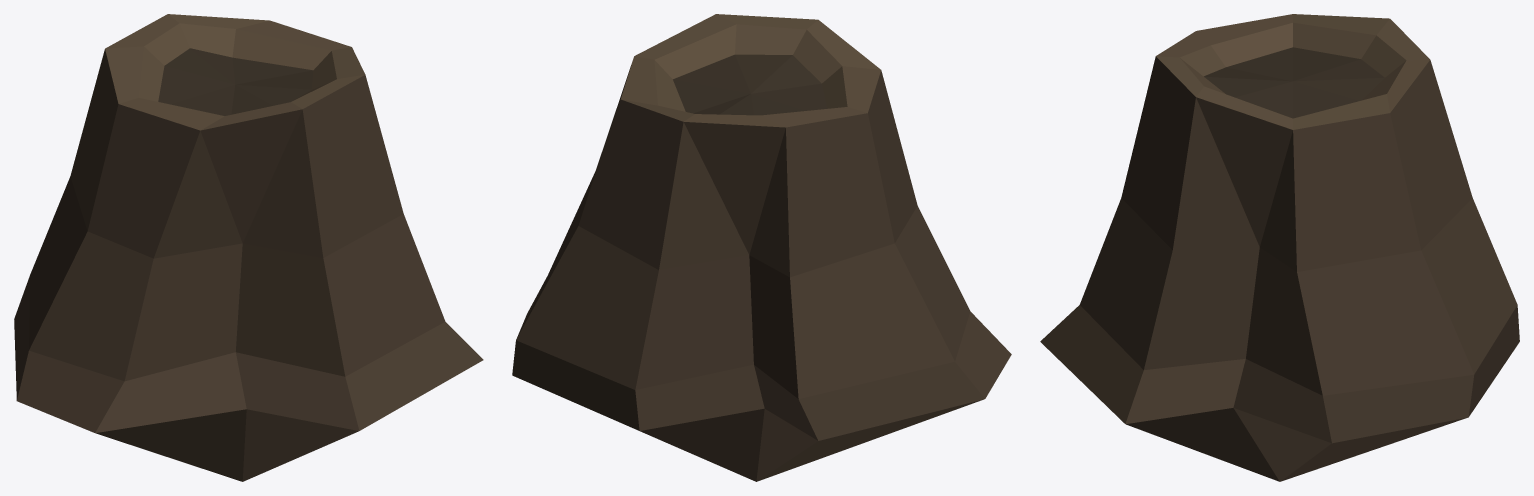
Rendered from synty-tree-stump-01.gltf.
3 views of the same model, side by side, from view 1: azimuth 30°, elevation 25°; view 2: azimuth 150°, elevation 25°; view 3: azimuth 270°, elevation 25° (orthographic).
Visible parts, largest first — view 1: SM_Tree_Stump_01; view 2: SM_Tree_Stump_01; view 3: SM_Tree_Stump_01.
Boxes of the visible parts, bbox=[...] form: SM_Tree_Stump_01: bbox=[14, 14, 483, 481]; SM_Tree_Stump_01: bbox=[512, 14, 1011, 481]; SM_Tree_Stump_01: bbox=[1040, 14, 1519, 481].
Bounding box in the file's own units: 0.867 × 0.8029 × 0.821.
1 material, 1 textured.
